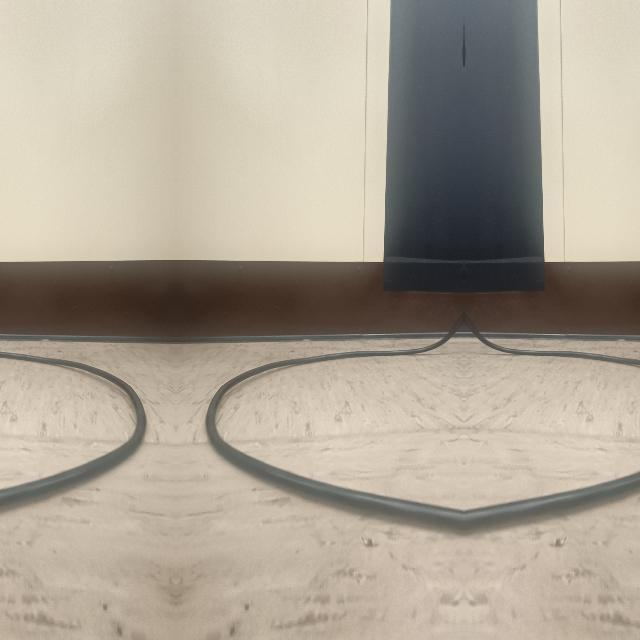obstacle: (206, 338, 464, 534), (464, 338, 640, 533), (0, 338, 144, 533)
